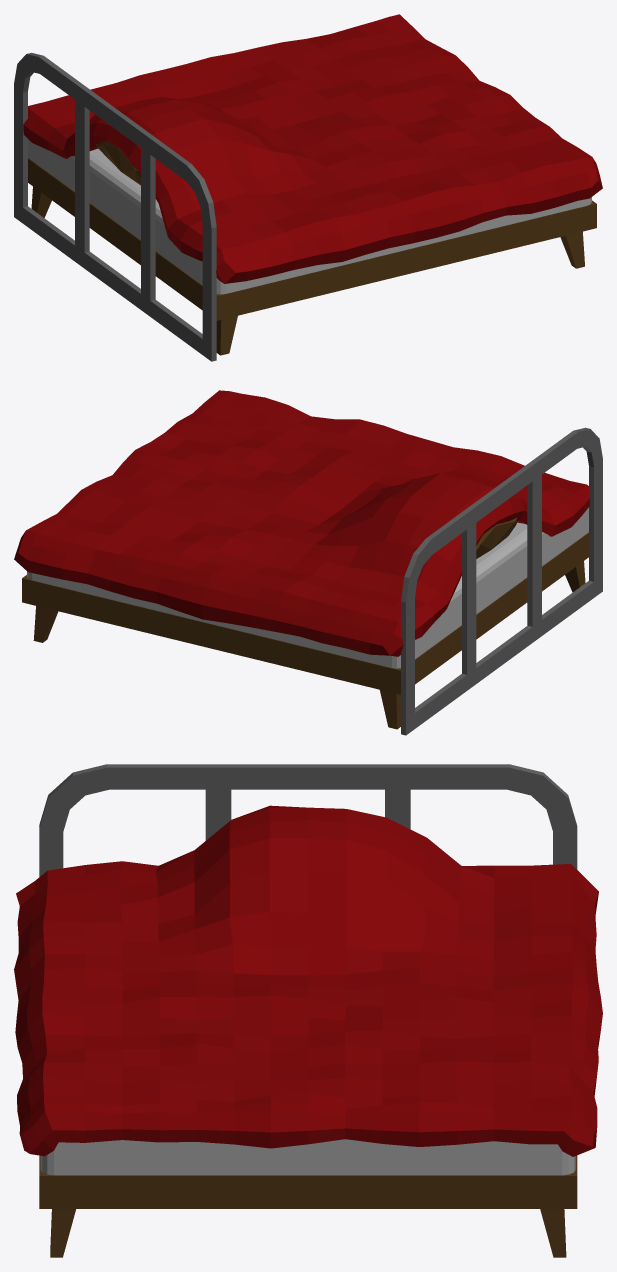
Rendered from bed.fbx.
3 views of the same model, one above another, from view 1: azimuth 30°, elevation 25°; view 2: azimuth 150°, elevation 25°; view 3: azimuth 270°, elevation 25° (orthographic). The views are drawn at different scales.
Parts seen in each view (by area): view 1: Plane.003; view 2: Plane.003; view 3: Plane.003.
Boxes of the visible parts, x1,y1,x2,y2 form: Plane.003: [14, 14, 602, 361]; Plane.003: [14, 390, 602, 735]; Plane.003: [14, 764, 602, 1257].
Size of the model in its own units: 208 by 90.02 by 198.
